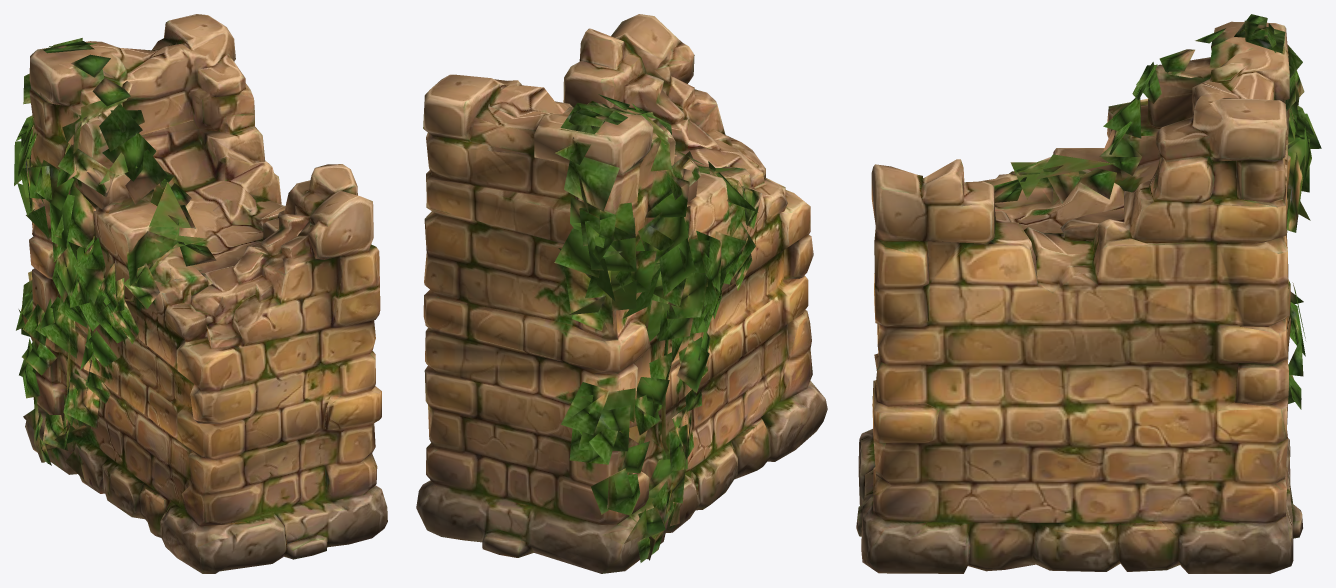
Rendered from wall.glb.
The picture shows the model from 3 angles, left to right: view 1: azimuth 30°, elevation 25°; view 2: azimuth 150°, elevation 25°; view 3: azimuth 270°, elevation 25°; orthographic projection. The views are drawn at different scales.
Bounding box in the file's own units: 0.5184 × 1 × 0.9084.
1 material, 1 textured.
